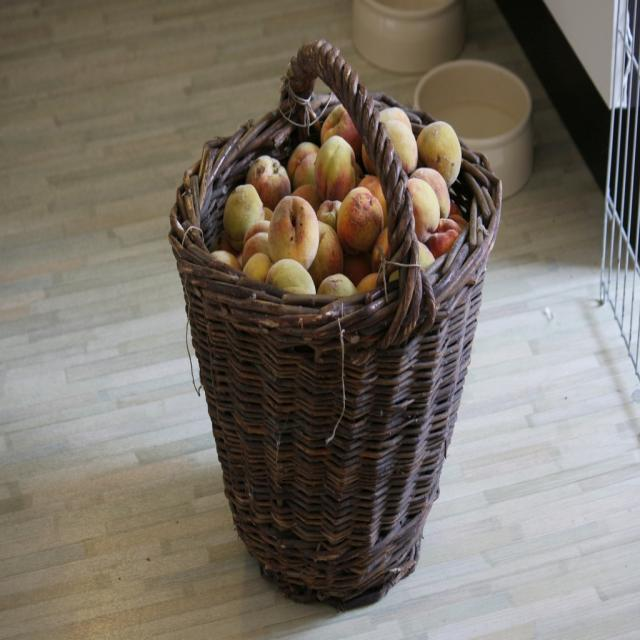Healty Apple: (314, 125, 359, 196)
